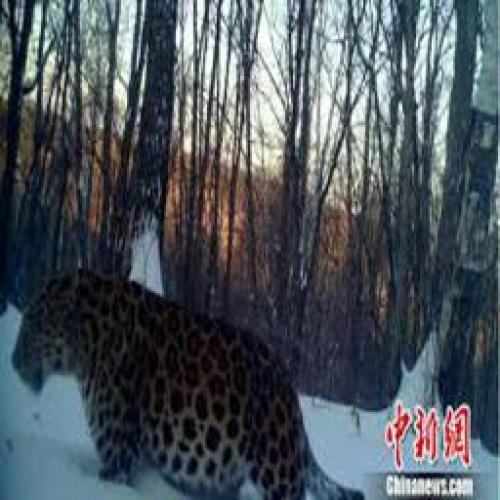amur_leopard-endangered: (9, 263, 365, 500)
